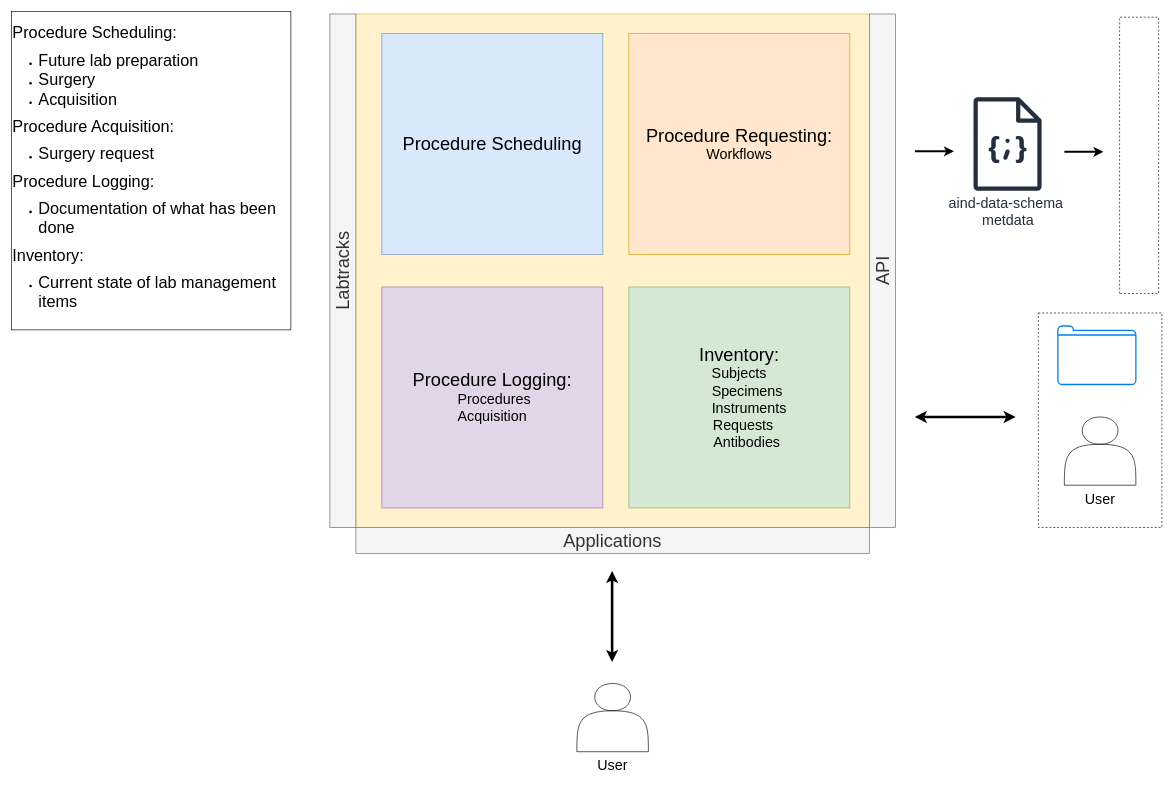
Some shapes in this 1173 by 786 pixel diagram are drawn without their labels. Here are the shapes that lost their labels. From the top down, the box of each, then its label:
(1119, 17, 1159, 293): Registry / DocDB
(1057, 325, 1136, 385): VAST/HPC
